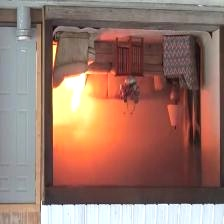fire: (56, 77, 94, 126)
